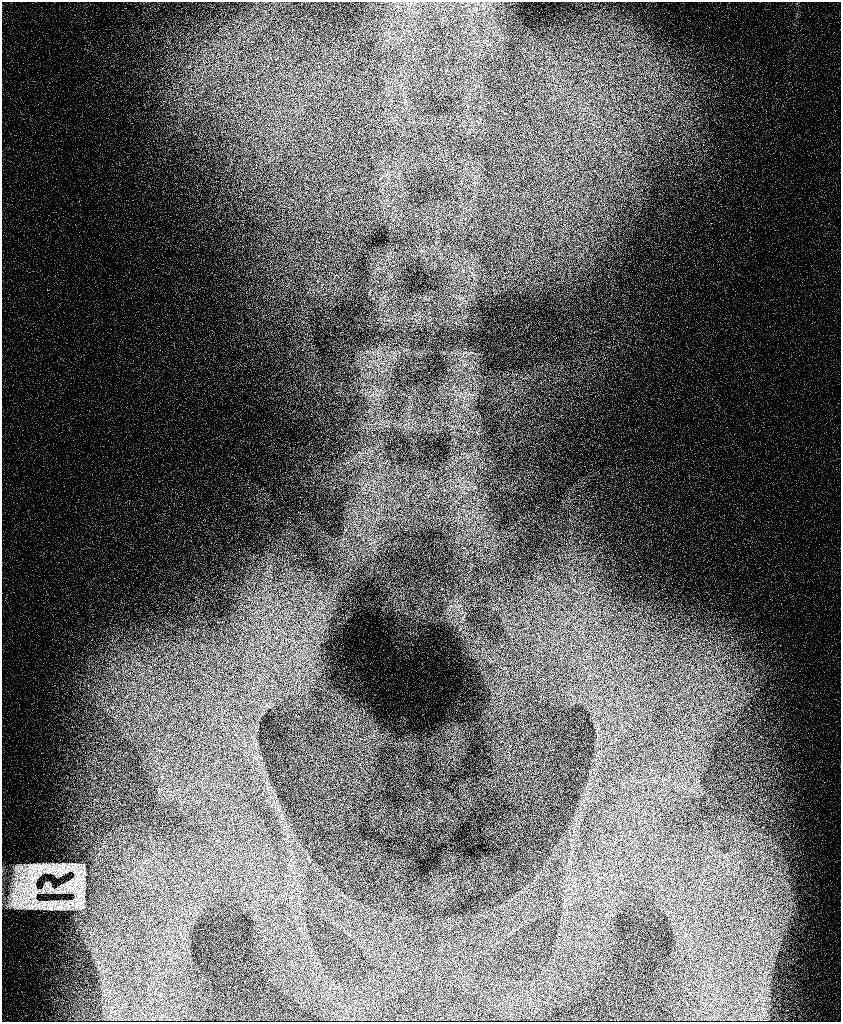lumbar scoliosis: (312, 69, 495, 545)
